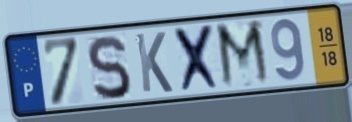7: (43, 34, 80, 109)
9: (268, 15, 307, 85)
K: (133, 30, 175, 95)
M: (213, 17, 274, 92)
S: (85, 33, 134, 103)
X: (171, 22, 225, 96)
